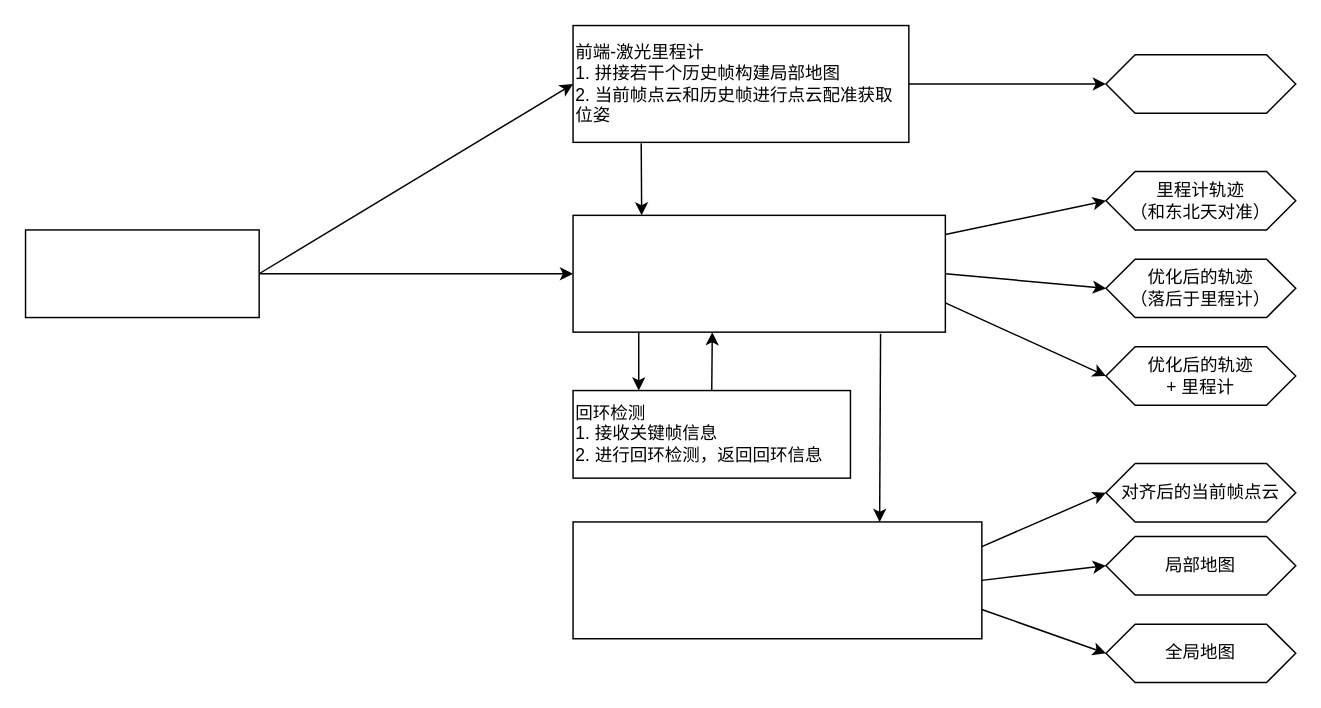
Some shapes in this 1321 by 708 pixel diagram are drawn without their labels. Here are the shapes that lost their labels. From the top down, the centre of each, then its label:
At (x=1200, y=83): "里程计轨迹 （和东北天不对准）".
At (x=141, y=273): "数据预处理 1. 传感器时间对齐（插值） 2. 点云去畸变（按需）".
At (x=758, y=273): "后端 1. 初始化：和 GNSS 进行位姿对准（东北天） 2. 接收回环信息进行图优化（可选） 3. 接收 GPS 信息进行图优化（可选）".
At (x=777, y=579): "地图可视化 1. 使用对齐后的位姿估计转换当前帧点云用于显示 2. 使用对齐后的位姿构建局部地图用于显示 3. 按需拼接全局地图用于显示并保存".
